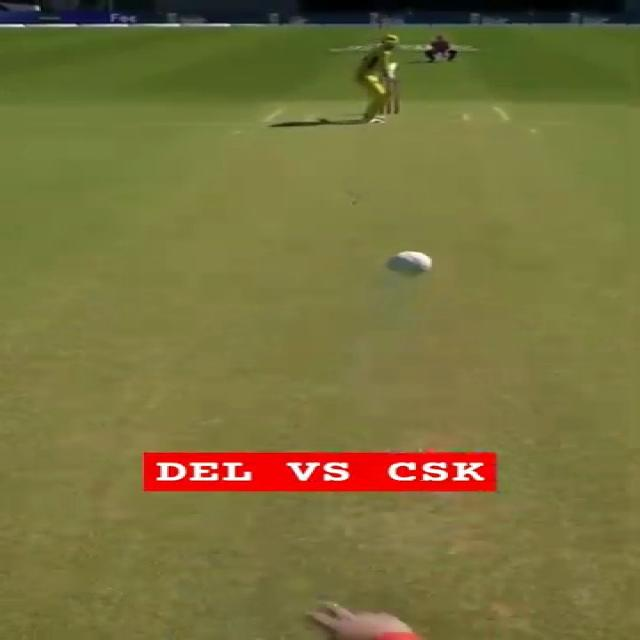ball: (379, 248, 441, 281)
